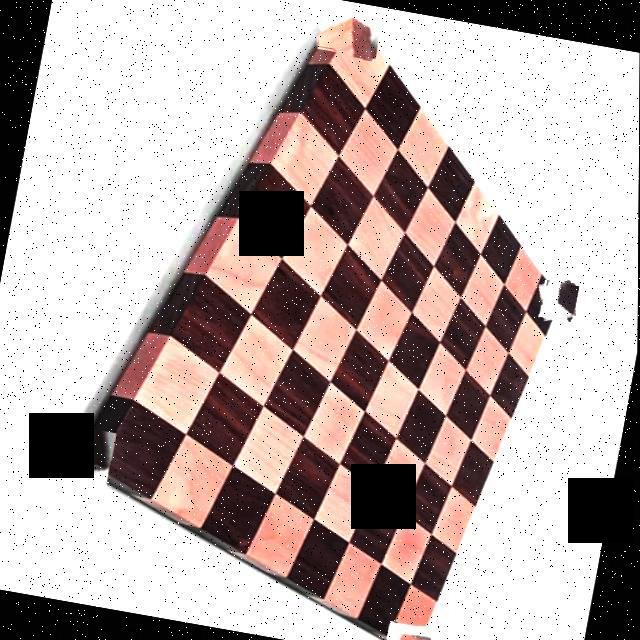chess-table-corners: (316, 5, 384, 59), (65, 424, 116, 486), (536, 276, 580, 324), (386, 618, 434, 640)
